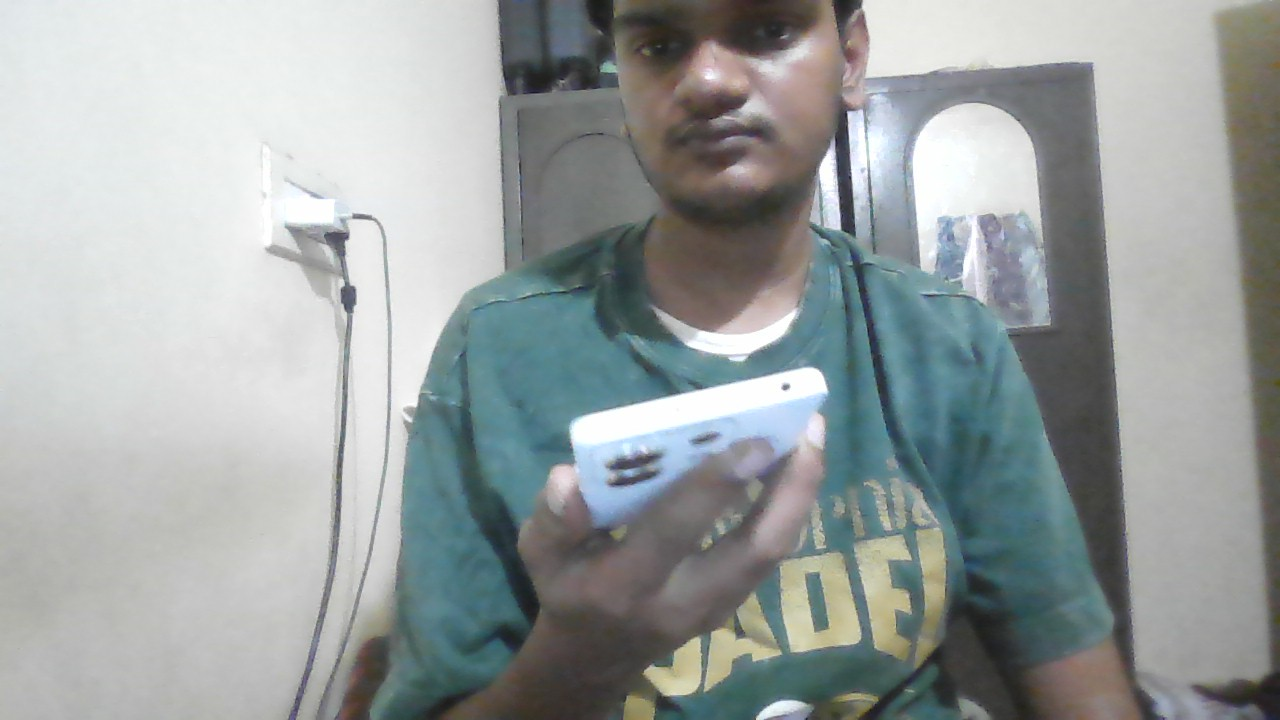phone: (567, 369, 830, 480)
